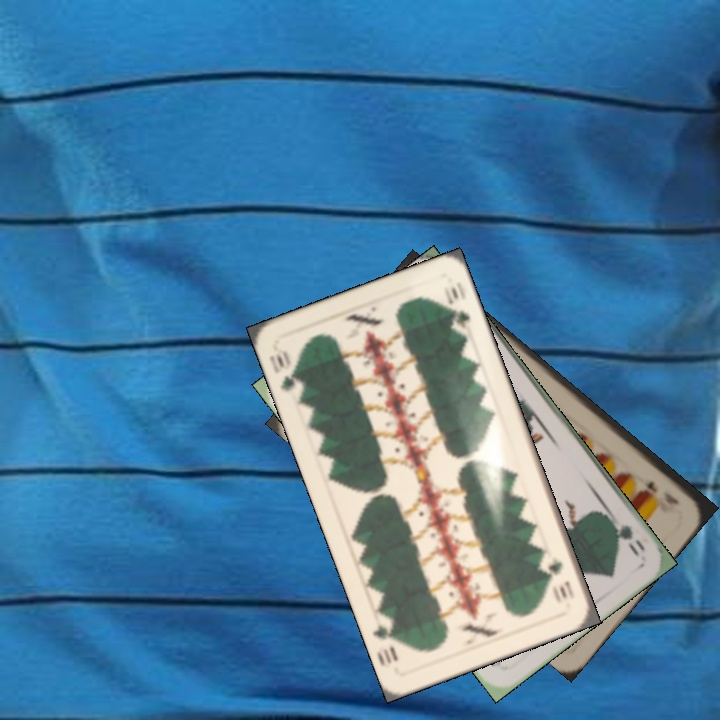E10: (642, 476, 682, 508)
G10: (265, 343, 307, 397), (544, 553, 577, 602)
GO: (602, 507, 648, 559)
